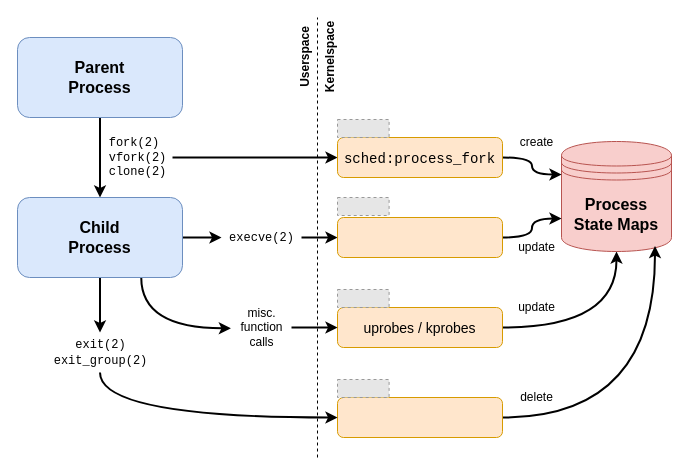
Image size: 689x476. Some labels were removed from this diagram. Grey dashed boxes stand in for pictures. The shapes that lost their labels are listed below. From the top down, each one's centre as x and y in pixels, then its label:
point (419, 237): sched:process_exec
point (419, 417): sched:process_exit
